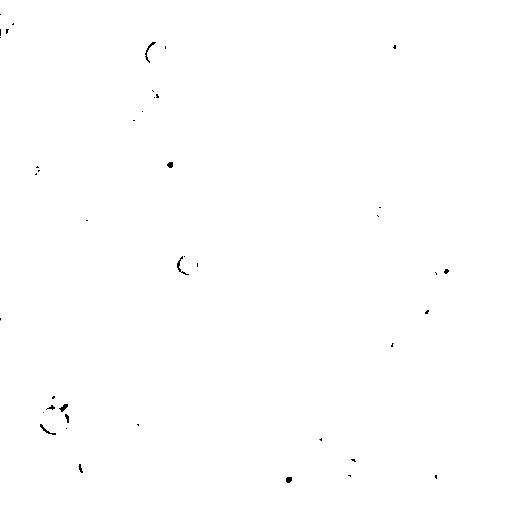micro-algae: (1, 303, 63, 382), (1, 65, 69, 132), (378, 306, 440, 371), (142, 257, 201, 316), (409, 297, 459, 344), (360, 439, 403, 485), (224, 0, 264, 39), (397, 377, 433, 416), (222, 393, 265, 425), (149, 147, 187, 179), (421, 251, 459, 283), (427, 357, 459, 393), (71, 202, 102, 239), (425, 0, 461, 31), (0, 19, 31, 53), (206, 32, 237, 64), (369, 350, 401, 381), (37, 407, 71, 436), (272, 463, 307, 491), (180, 131, 211, 161), (118, 197, 143, 231), (233, 452, 261, 481), (267, 72, 297, 99), (302, 425, 333, 451), (71, 1, 110, 21), (143, 38, 169, 65), (76, 452, 102, 479), (423, 461, 446, 491), (409, 293, 435, 319), (383, 27, 406, 56), (51, 389, 75, 416), (336, 456, 362, 479), (116, 103, 139, 128), (115, 416, 142, 437), (390, 331, 413, 355), (274, 143, 295, 169), (140, 341, 159, 368), (374, 201, 397, 223), (93, 105, 114, 129), (177, 251, 198, 275), (147, 72, 169, 93), (137, 108, 157, 131), (242, 111, 266, 130), (155, 481, 176, 501), (300, 121, 323, 139), (129, 301, 147, 321), (151, 445, 171, 463), (1, 10, 15, 35), (23, 163, 43, 179), (65, 501, 89, 512)
